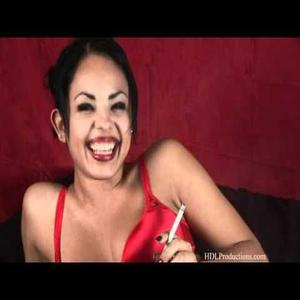cigarette: (166, 204, 189, 241)
